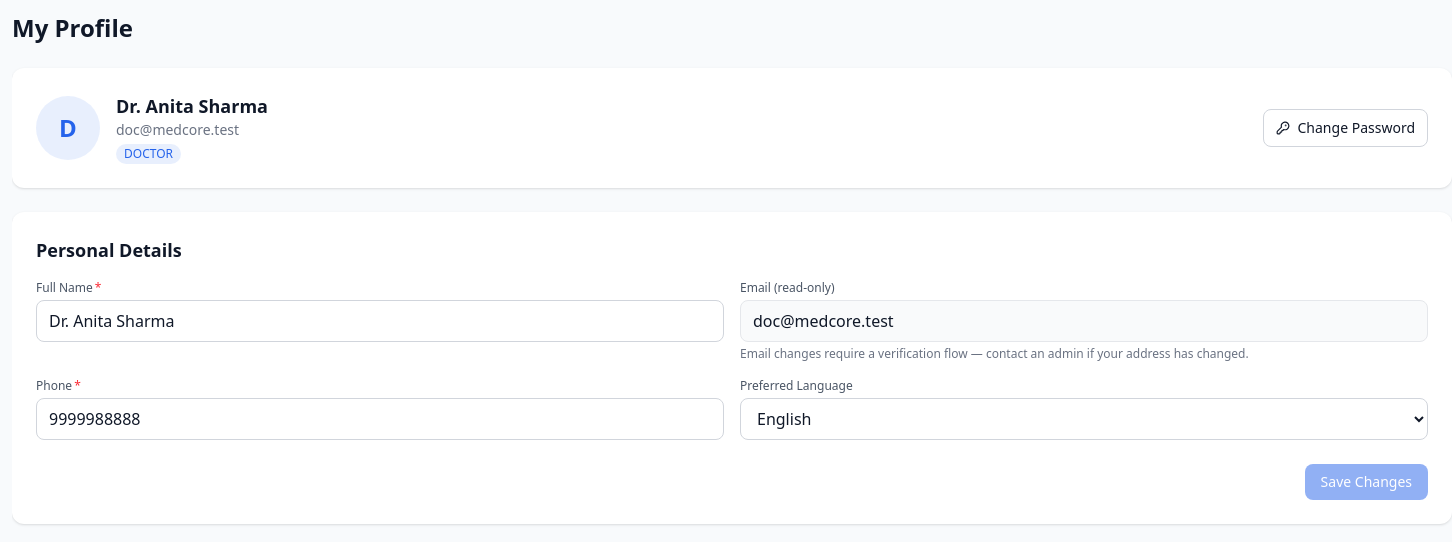
Test case: ProfilePage — self-service /dashboard/profile (Issue #303) › changing preferredLanguage alone marks the form dirty (covers the language branch of dirty())
Select "हिन्दी (Hindi)" in the dropdown with test id "profile-language-input" at point(1084, 419), box [740,398,1428,440]
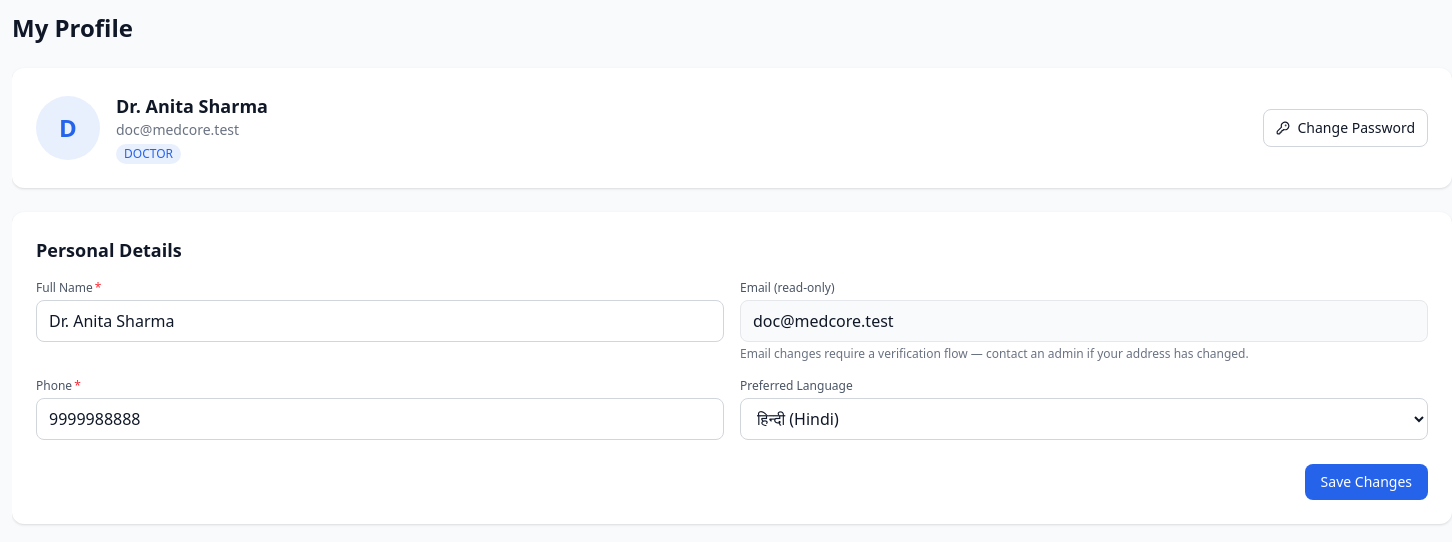
Now the button with test id "profile-save-btn" is enabled, box [1305,464,1428,500]
